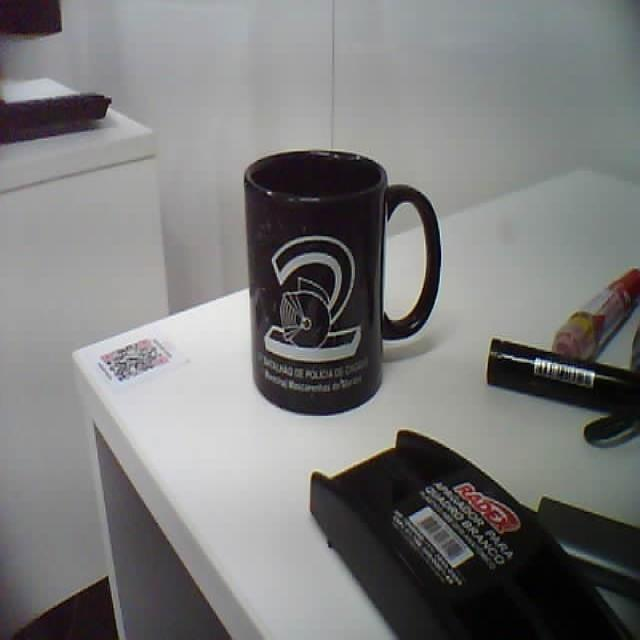caneca: (242, 155, 437, 418)
